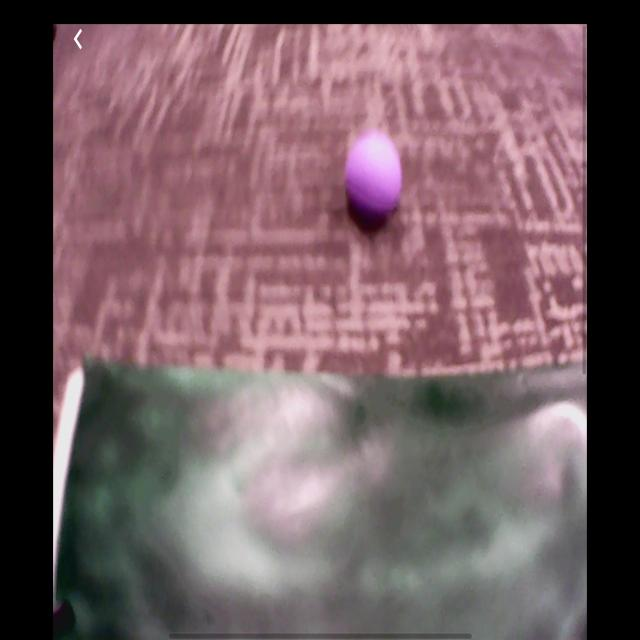ball: (347, 137, 403, 215)
